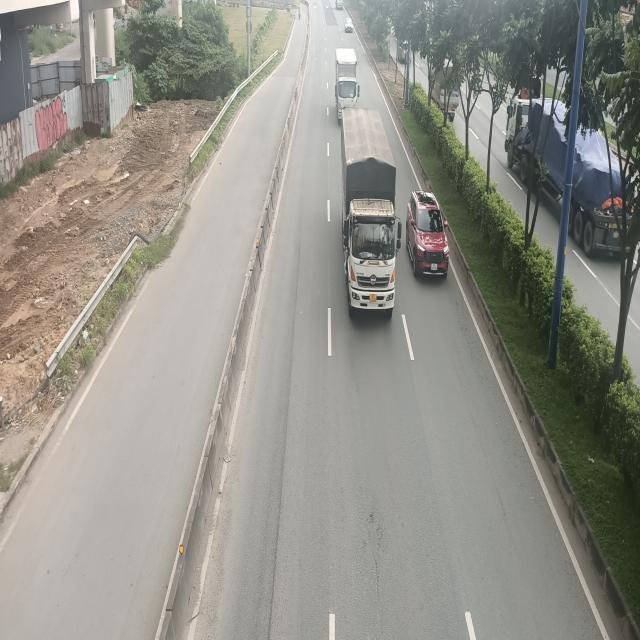car: (406, 189, 448, 281)
truck: (340, 108, 402, 318), (337, 47, 362, 124)
